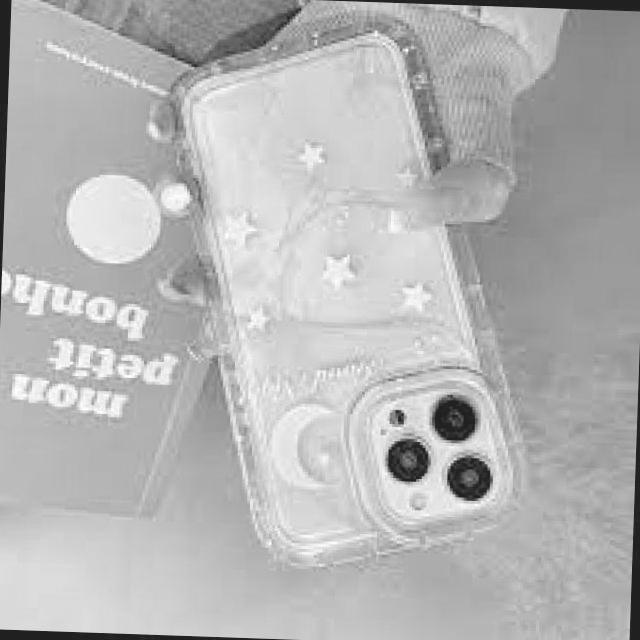lens: (380, 392, 498, 512)
phone: (148, 20, 528, 569)
